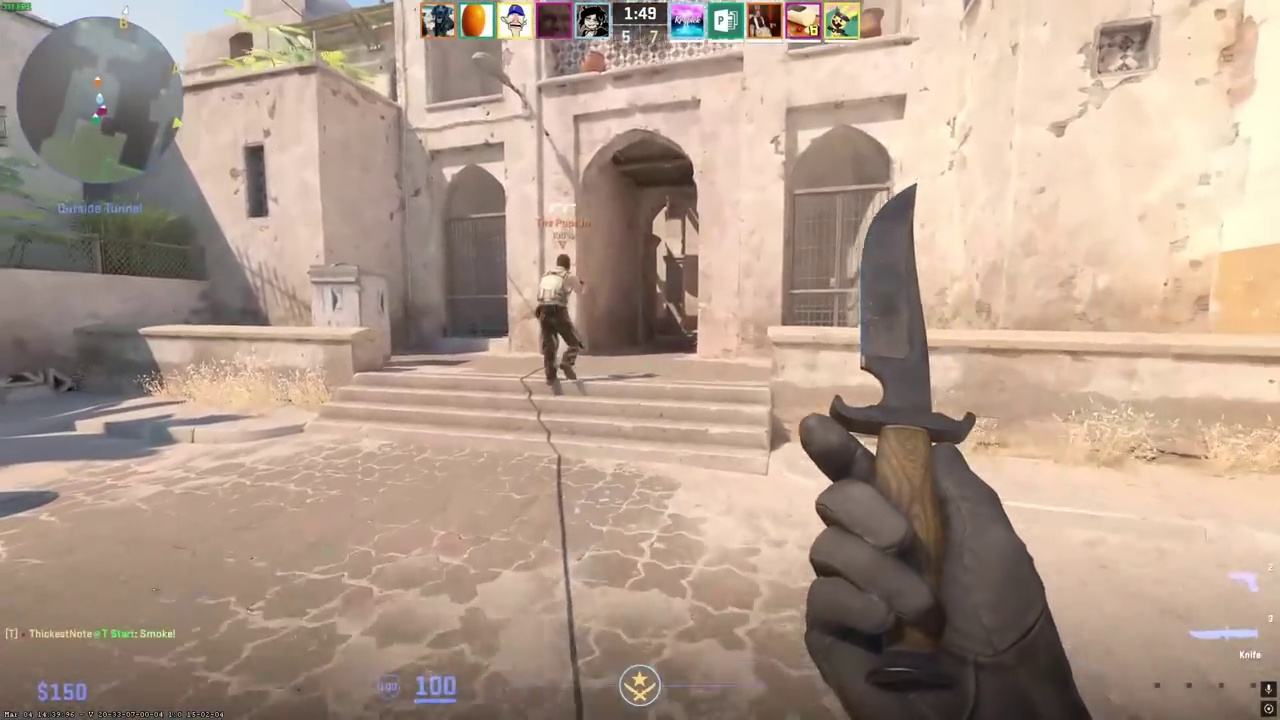Terrorist: (532, 253, 589, 392)
